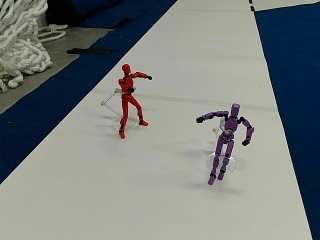pedestrian: (195, 102, 252, 181), (116, 63, 151, 137)
